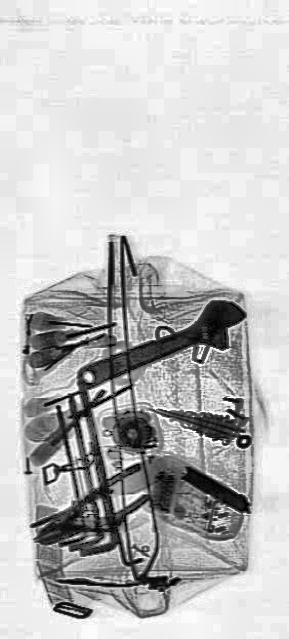Pliers: (35, 480, 117, 558)
Wrench: (74, 285, 248, 408)
